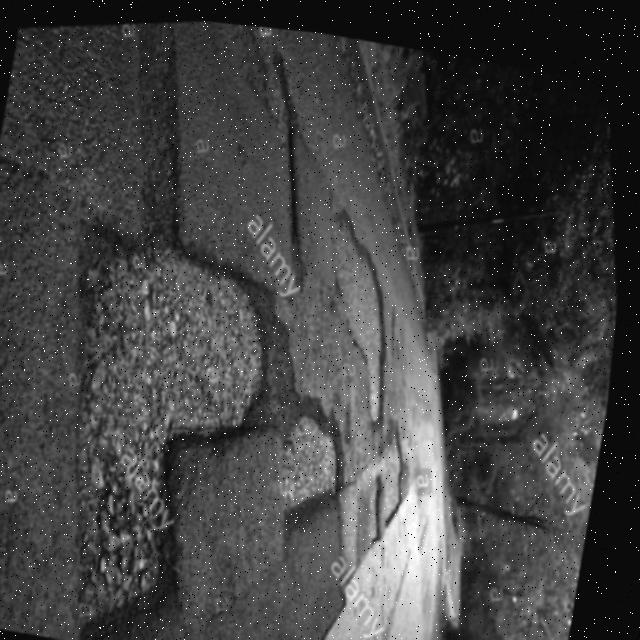Pothole: (0, 124, 375, 640), (282, 143, 469, 444), (238, 356, 392, 599), (313, 373, 463, 610), (226, 34, 357, 296)
